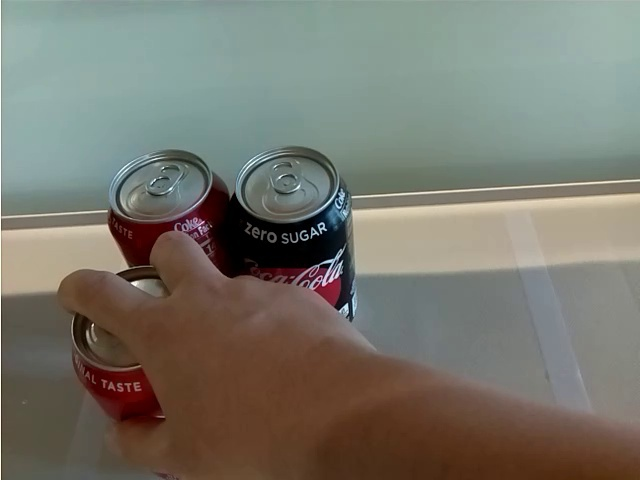cocacola: (68, 264, 197, 480), (105, 146, 232, 269)
cocacola-zero: (233, 144, 355, 323)
hand: (54, 228, 391, 480)
